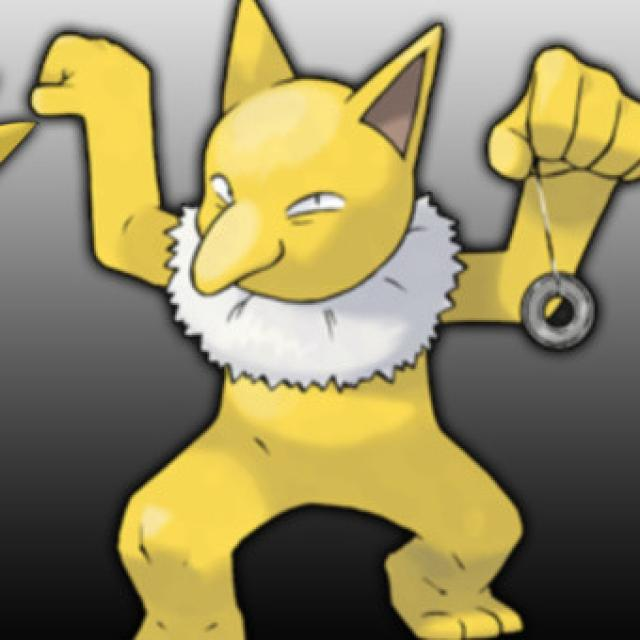Hypno: (150, 9, 640, 594)
